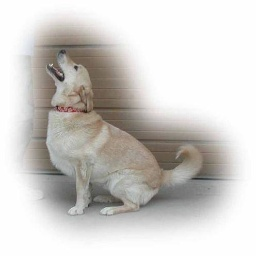dog: (37, 45, 207, 223)
